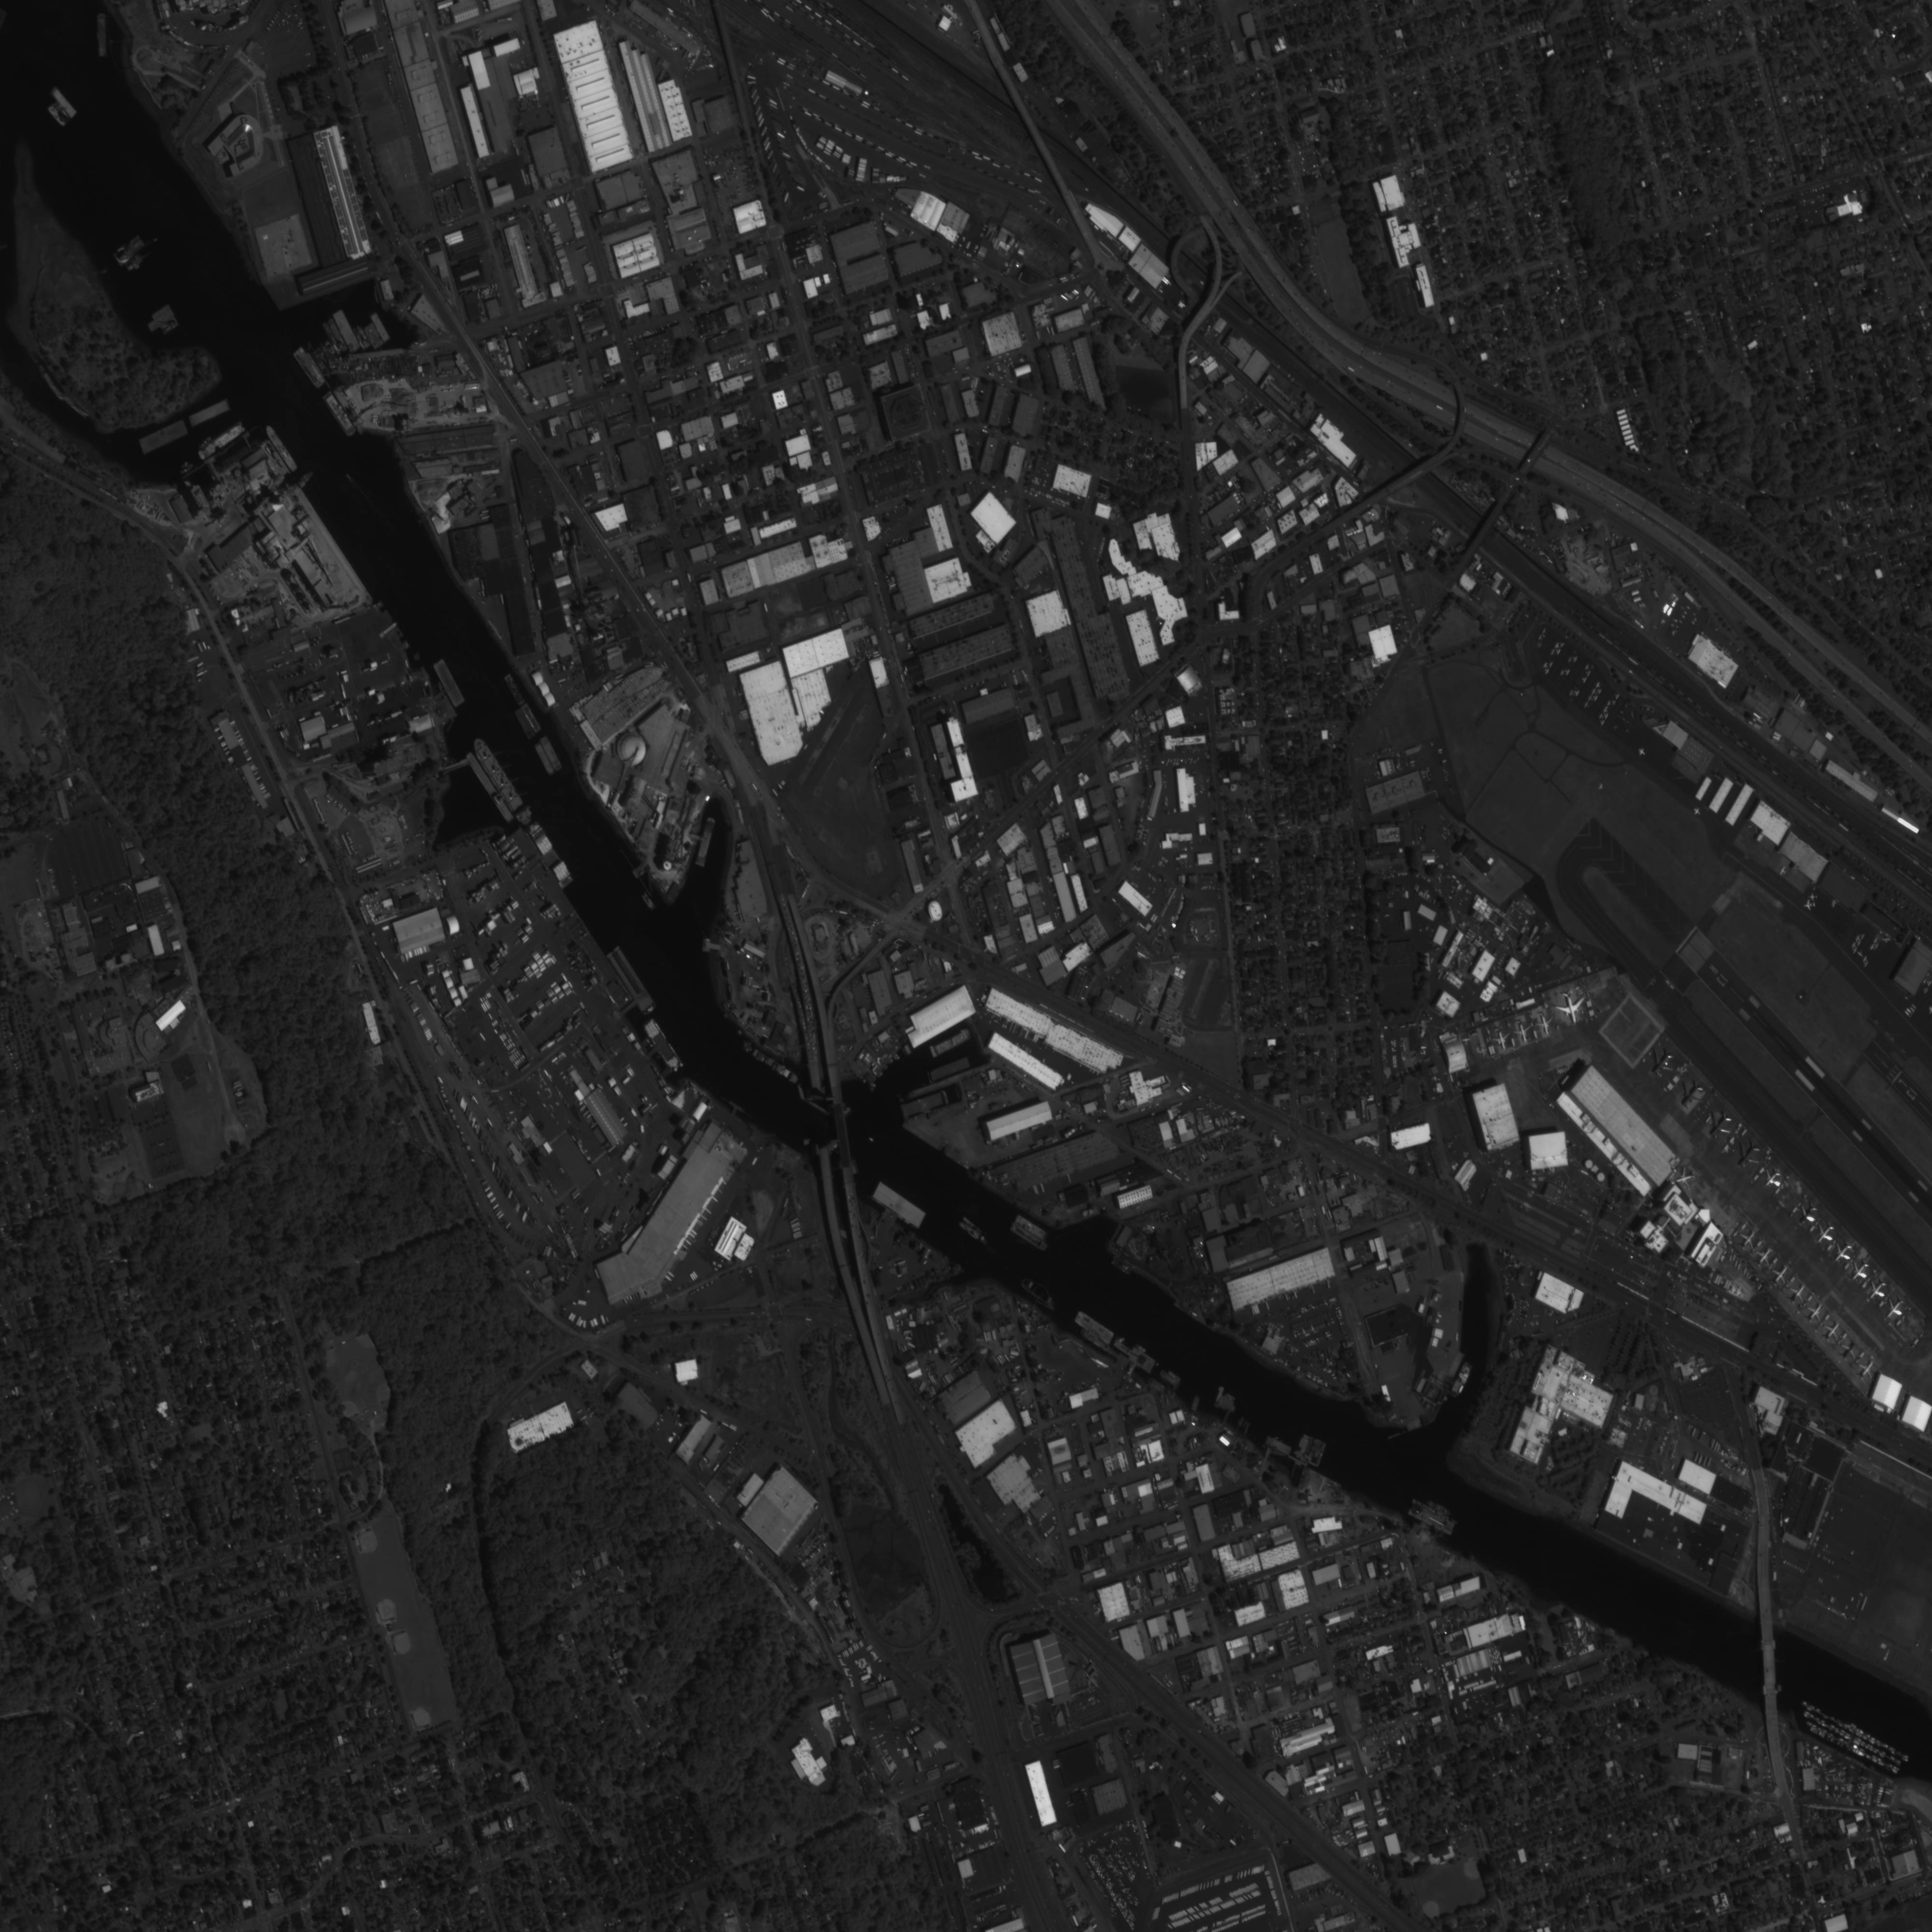baseball diamond: (389, 1628, 417, 1661), (406, 1703, 437, 1732), (375, 1596, 402, 1627), (356, 1526, 381, 1557), (352, 1333, 377, 1357), (1459, 1861, 1484, 1885), (1419, 1899, 1444, 1922), (339, 1395, 362, 1420), (372, 1380, 395, 1404), (321, 1347, 342, 1371)
bridge: (785, 896, 916, 1426), (769, 898, 895, 1425), (1749, 1523, 1791, 1788)
harbor: (1078, 1330, 1132, 1372), (1206, 1387, 1244, 1428), (201, 454, 227, 483), (236, 430, 258, 457), (1263, 1449, 1288, 1470), (724, 1099, 746, 1120)
plane: (1552, 987, 1592, 1027), (1700, 1105, 1739, 1146), (1672, 1075, 1710, 1114), (1644, 1043, 1681, 1083), (1729, 1136, 1766, 1175), (1791, 1198, 1823, 1231), (1880, 1293, 1910, 1326), (1827, 1237, 1858, 1269), (1862, 1274, 1892, 1306), (1811, 1218, 1840, 1249), (1834, 1336, 1863, 1367), (1846, 1256, 1874, 1287), (1801, 1298, 1829, 1328), (1853, 1355, 1880, 1385), (1784, 1279, 1811, 1309), (1818, 1317, 1845, 1347), (1759, 1165, 1787, 1193), (1750, 1243, 1778, 1272), (1734, 1226, 1761, 1255), (1766, 1261, 1793, 1290), (1489, 1024, 1513, 1052), (1673, 1165, 1698, 1191), (1511, 1019, 1535, 1045), (1534, 1011, 1557, 1037), (1803, 898, 1817, 912), (1637, 745, 1648, 758), (1777, 865, 1789, 877), (1477, 1046, 1489, 1058), (1692, 807, 1703, 819), (1809, 893, 1818, 903), (1462, 1037, 1471, 1046), (1569, 690, 1577, 699), (1583, 702, 1591, 710), (1922, 987, 1930, 995), (1597, 783, 1605, 791), (1574, 689, 1581, 697), (1850, 942, 1858, 950), (1581, 676, 1589, 684), (1869, 944, 1876, 952), (1852, 946, 1859, 955), (1595, 682, 1602, 689), (1584, 664, 1591, 672), (1862, 956, 1869, 964), (1567, 656, 1575, 664), (1555, 648, 1563, 656), (1544, 668, 1551, 675), (1542, 662, 1549, 669), (1588, 695, 1594, 703), (1599, 719, 1606, 726), (1857, 951, 1864, 958), (1591, 688, 1598, 696), (1874, 942, 1880, 950), (1873, 938, 1879, 945), (1573, 655, 1579, 663), (1564, 668, 1571, 676), (1926, 979, 1932, 987), (1855, 935, 1862, 942), (1592, 695, 1599, 702), (1585, 670, 1592, 677), (1537, 635, 1544, 642), (1555, 642, 1561, 650), (1606, 700, 1613, 708), (1863, 961, 1870, 968), (1603, 707, 1609, 714), (1882, 938, 1890, 944), (1614, 693, 1620, 700), (1559, 642, 1565, 649), (1550, 650, 1556, 656), (1598, 713, 1604, 721), (1560, 670, 1566, 677), (1542, 628, 1548, 635), (1548, 661, 1554, 668), (1856, 940, 1862, 946), (1611, 700, 1617, 706), (1604, 713, 1609, 720), (1597, 688, 1603, 695), (1860, 934, 1865, 940)
ship: (468, 735, 536, 829), (642, 1018, 685, 1075), (749, 1047, 801, 1086), (320, 389, 358, 440), (263, 423, 300, 474), (198, 422, 246, 461), (433, 658, 467, 708), (1074, 1309, 1117, 1346), (291, 346, 327, 389), (1010, 1222, 1049, 1255), (1022, 1280, 1057, 1308), (958, 1217, 991, 1248), (540, 736, 563, 771), (504, 674, 527, 708), (533, 743, 556, 776), (514, 709, 537, 741), (522, 705, 543, 734), (1264, 1436, 1291, 1457), (96, 14, 108, 58)
soccer ball field: (346, 473, 353, 481)
